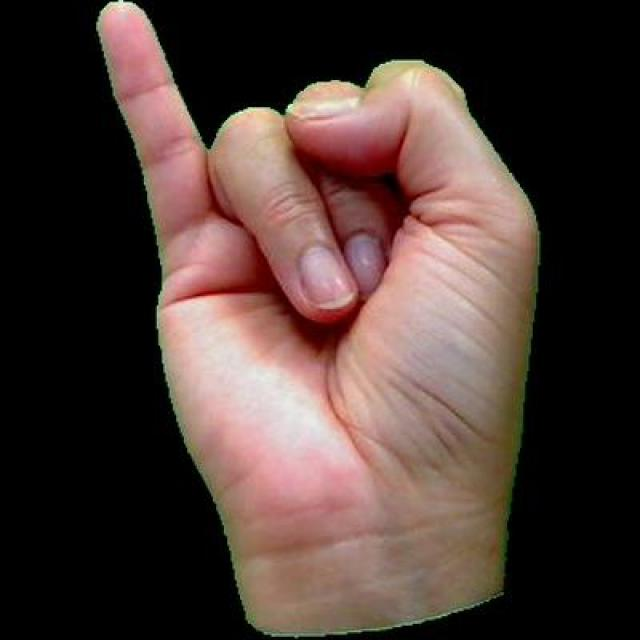i: (74, 0, 560, 637)
